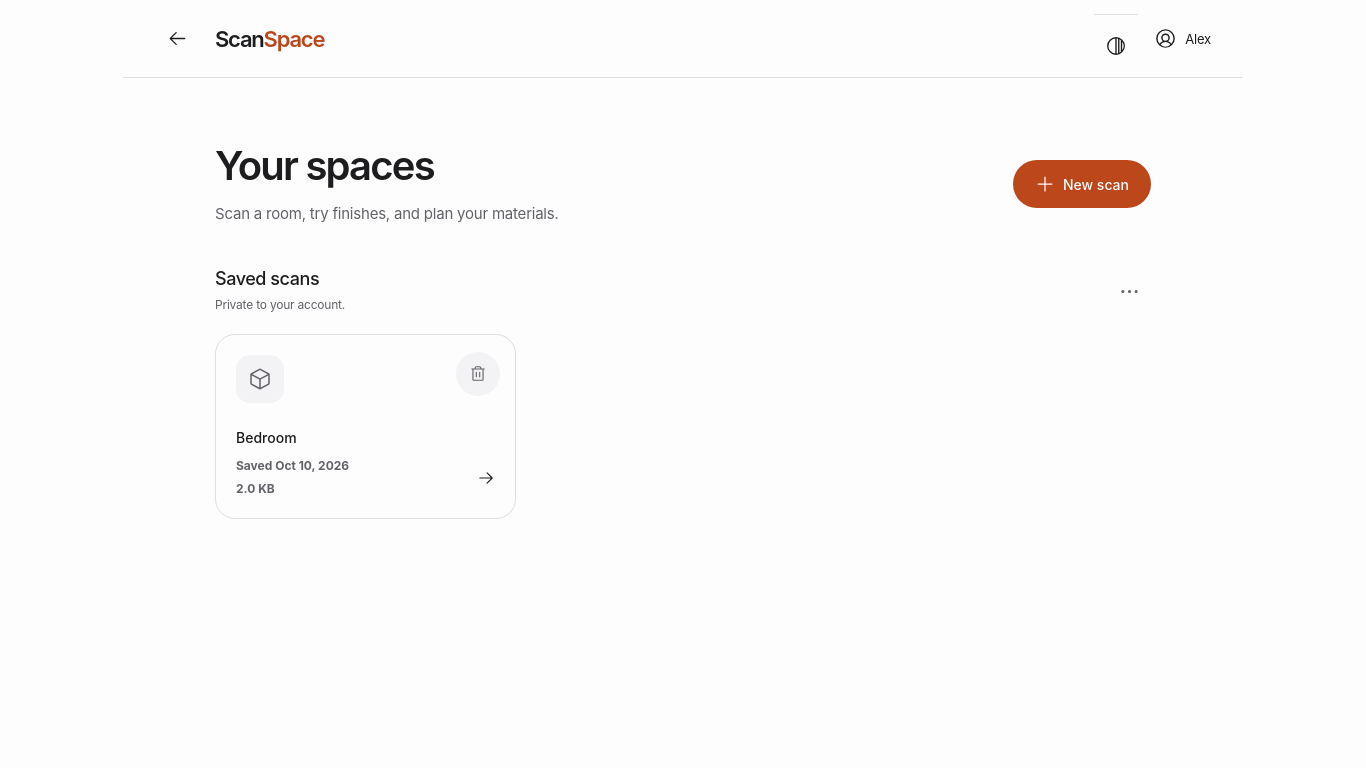
Test case: account deletion requires confirmation before removing its card
Click the button named "Delete Bedroom": click(478, 374) left=456, top=352, right=500, bottom=396
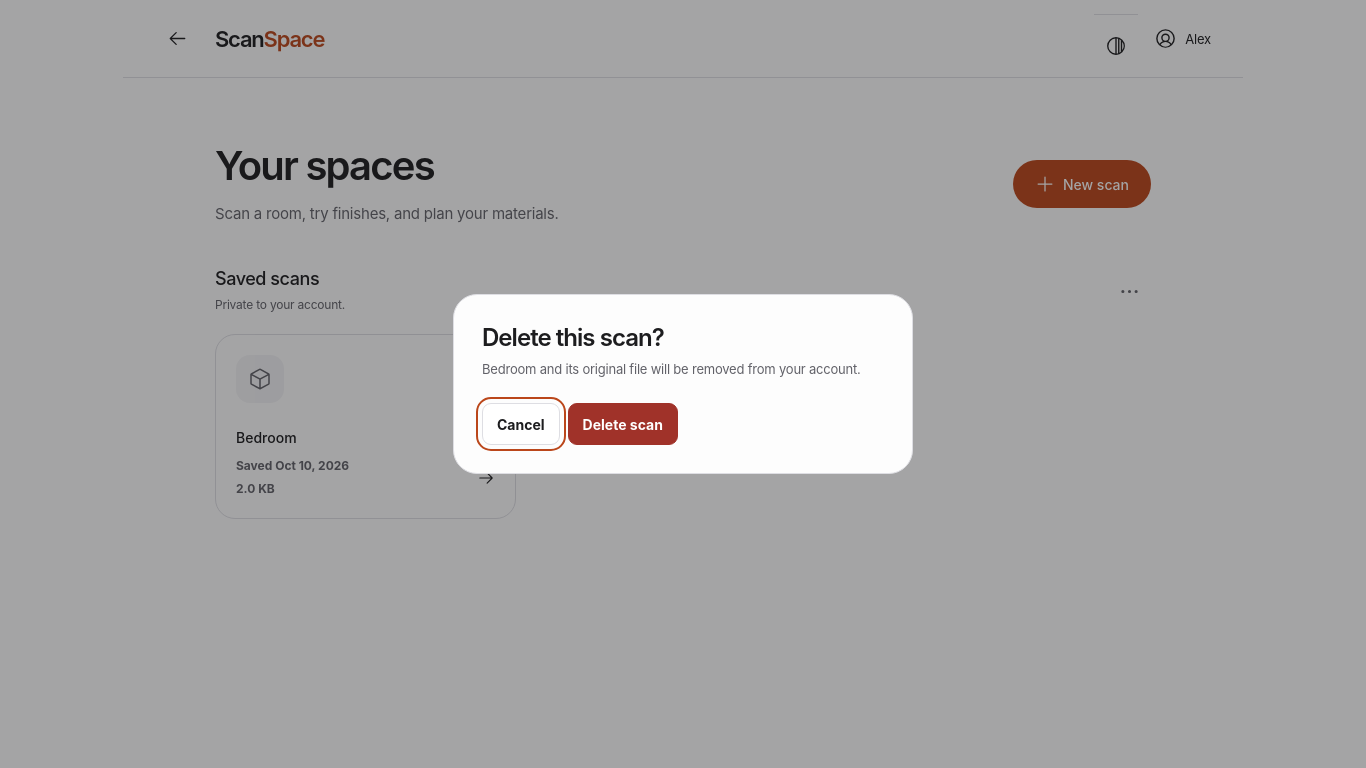
Click the button "Delete scan": click(623, 424) left=568, top=403, right=678, bottom=445
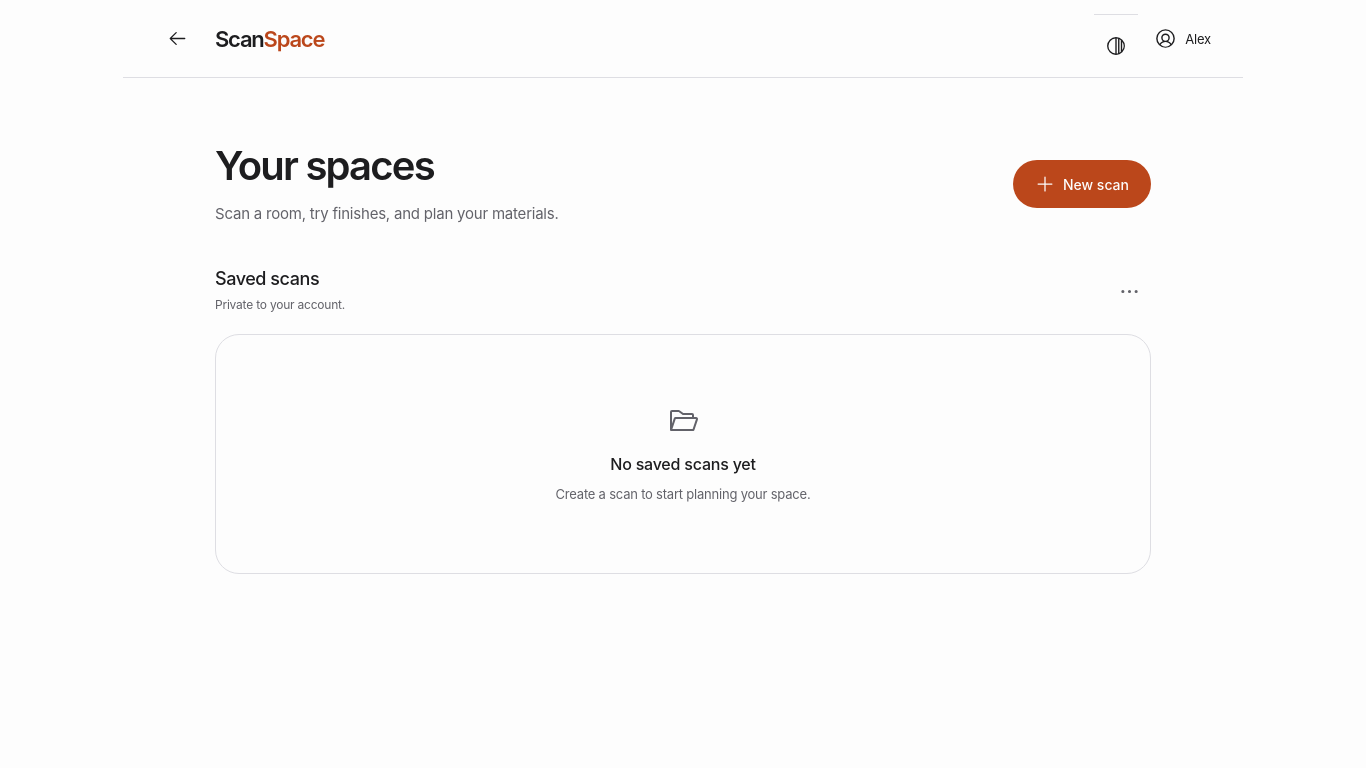
Expected: the heading "No saved scans yet" is shown, left=610, top=454, right=756, bottom=474
